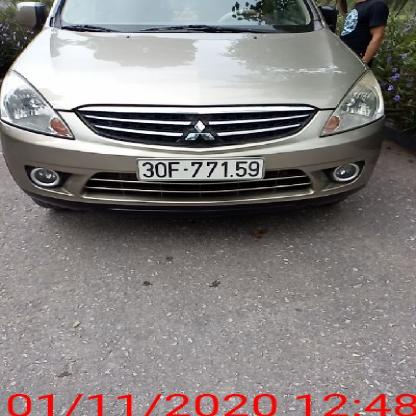biensoxe: (129, 150, 269, 192)
